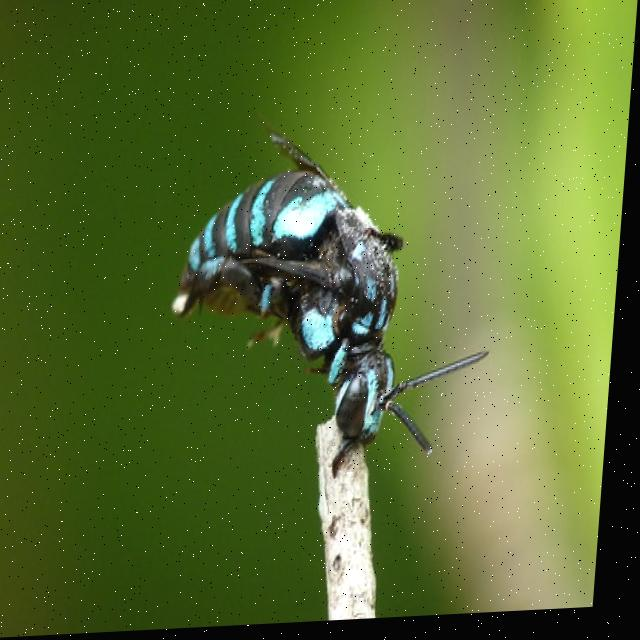Thyreus: (149, 95, 521, 488)
